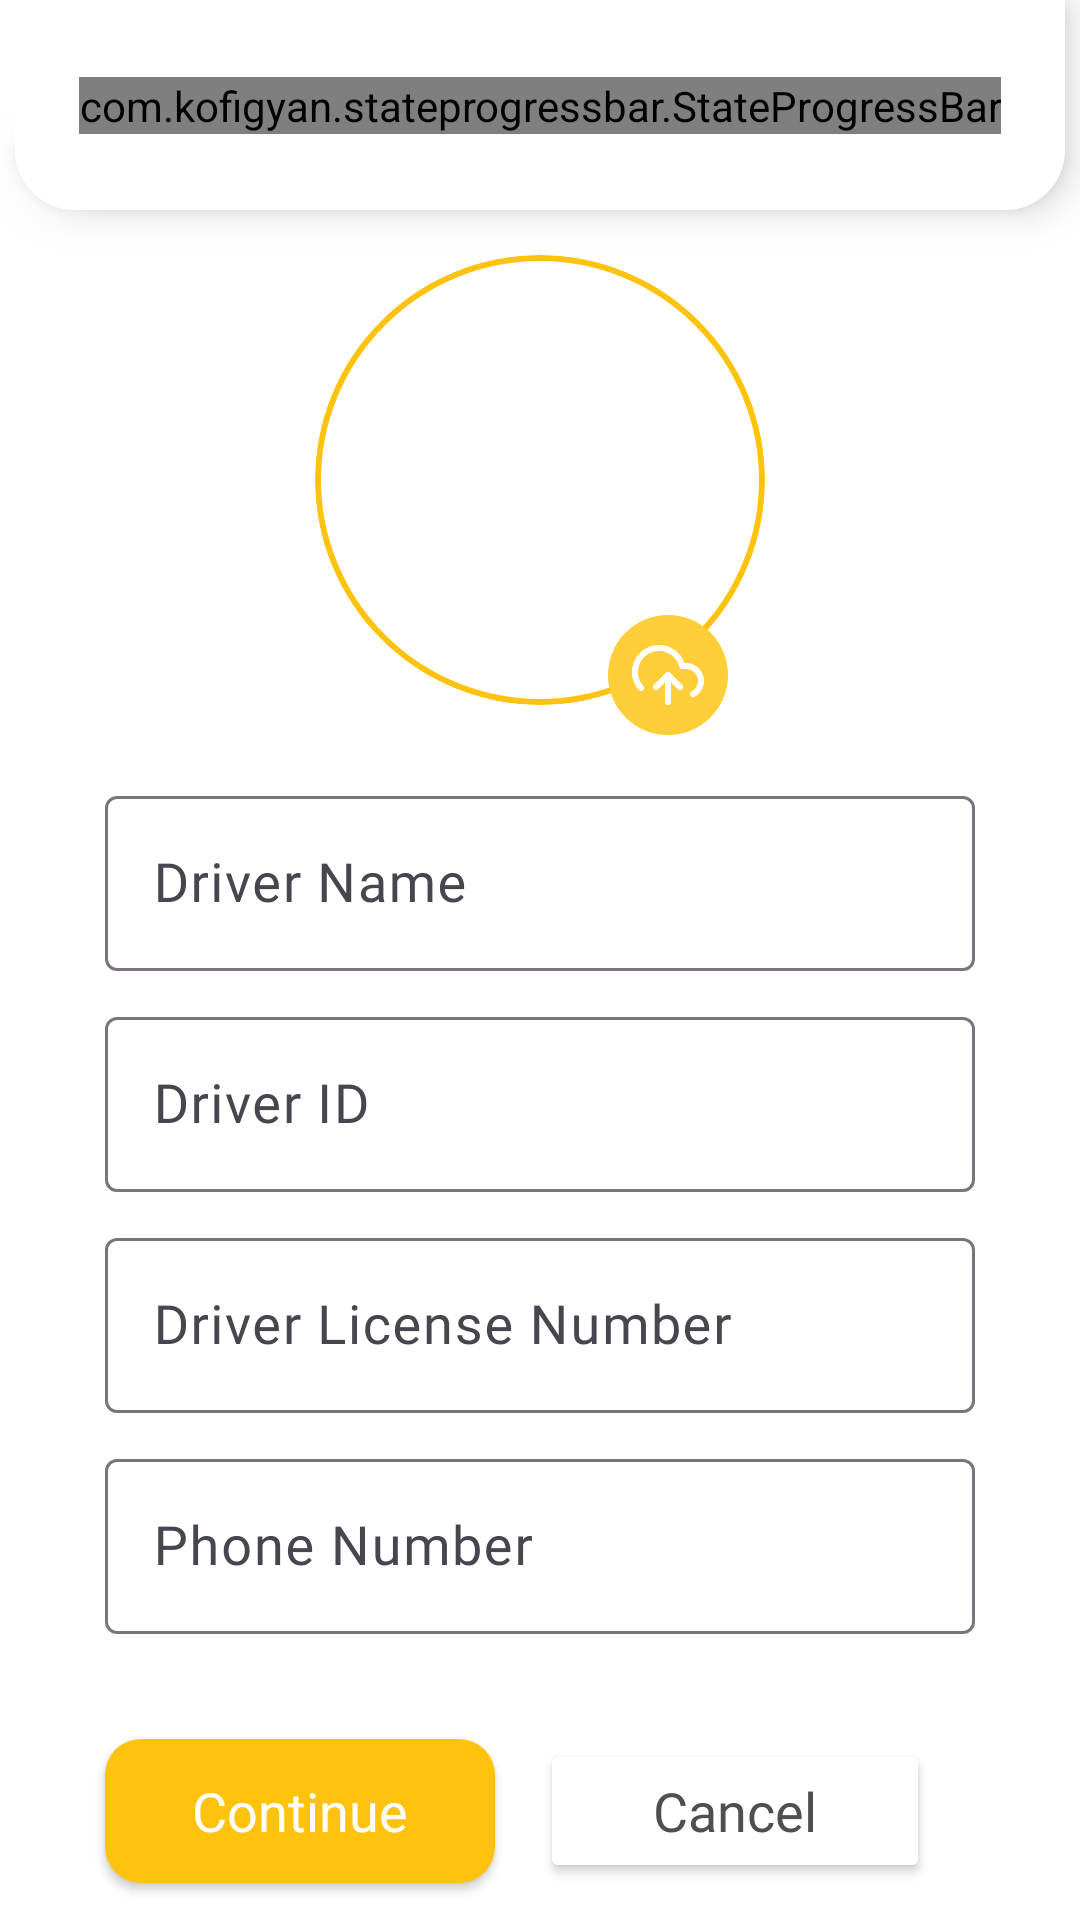

Where icons sit on this 1080px x 1920px app screen, as box(x1, y1, x2, y2):
upload: box(608, 615, 728, 735)
